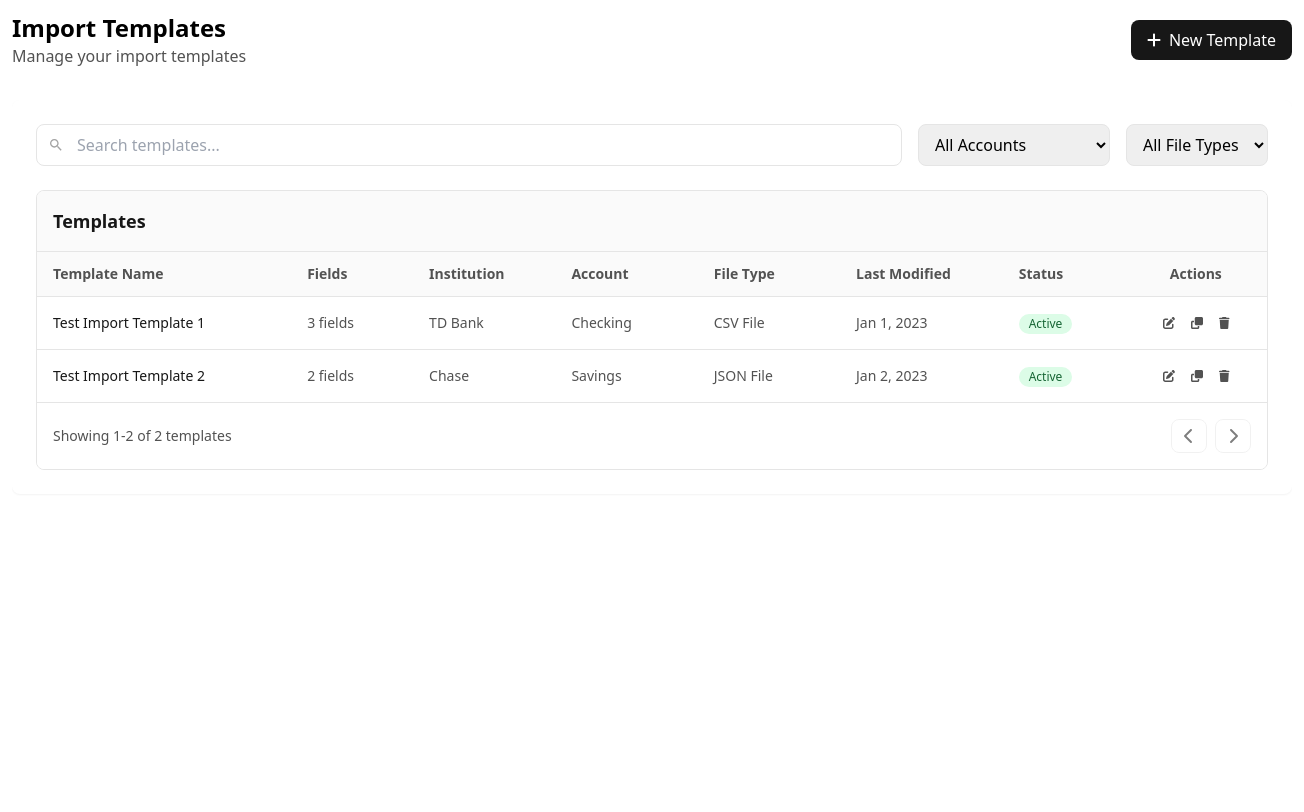
Test: ImportTemplatesPage › Field Combination Functionality › should navigate to field combination editor when "Add Field Combination" is clicked (edit mode)
Expected: the text "Test Import Template 1" is shown, [53, 313, 205, 332]
Click edit on existing template (which has fields)
Click the button named "edit" in the row of "Test Import Template 1".
click(1169, 323)  # box [1157, 309, 1181, 337]
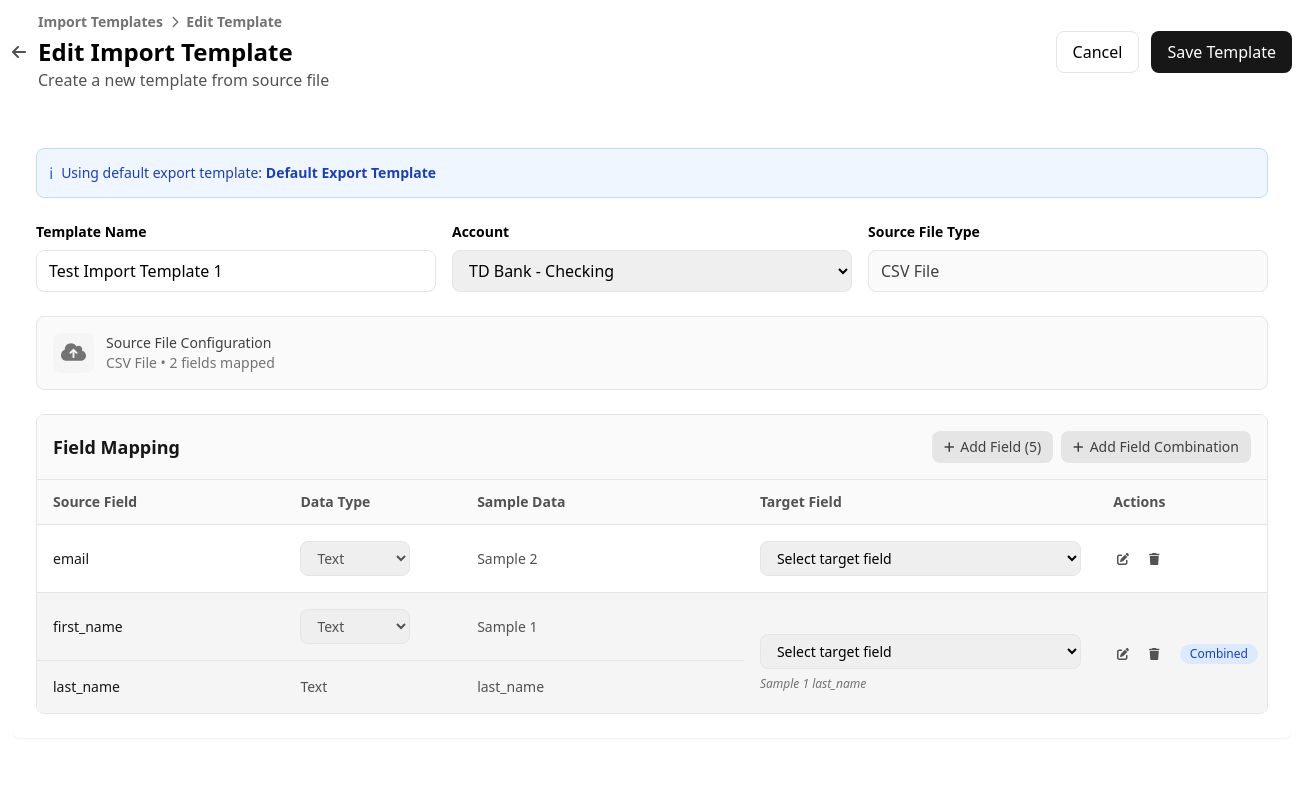
Now the heading "Edit Import Template" is shown, box [38, 36, 329, 68]
Now the button "Add Field Combination" is enabled
Click the button "Add Field Combination".
click(1156, 447)  # box [1061, 431, 1251, 463]
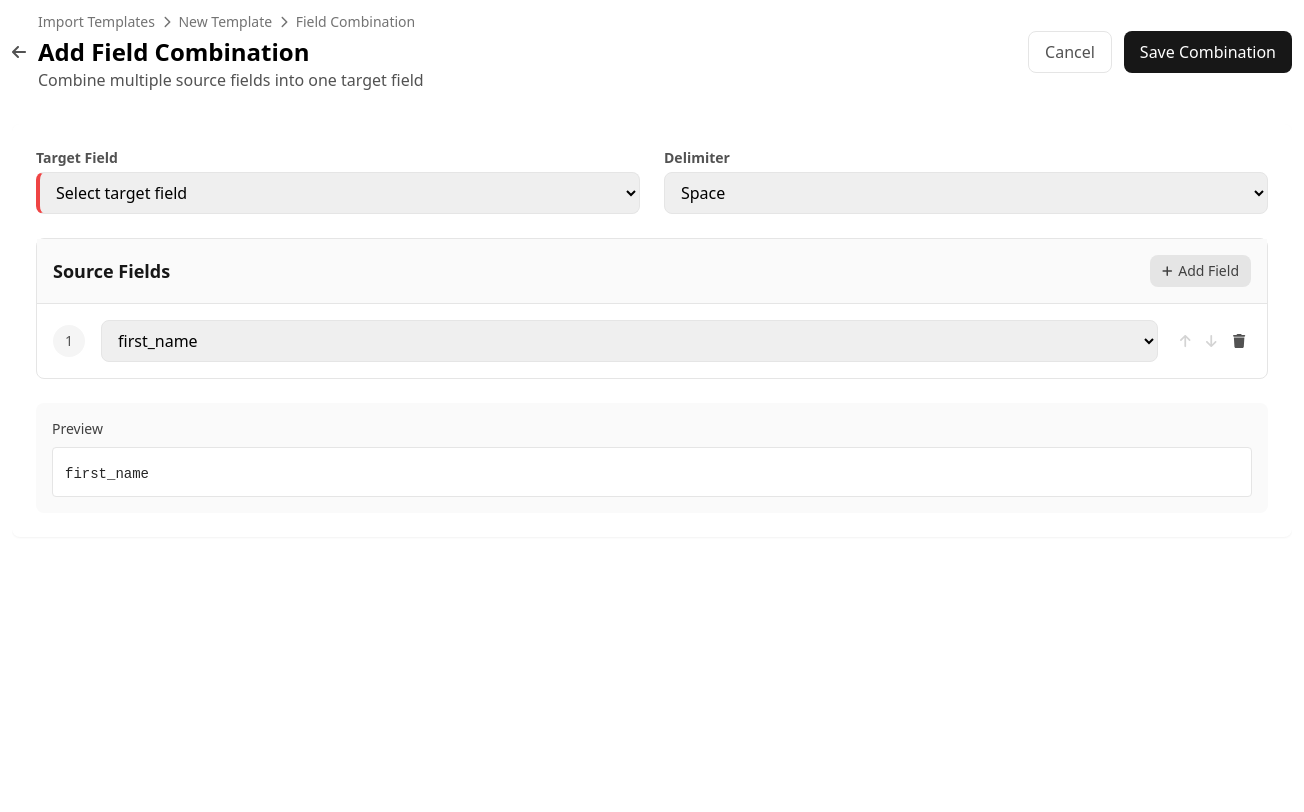
Now the heading "Add Field Combination" is shown, box [38, 35, 310, 68]
Now the text "Combine multiple source fields into one target field" is shown, box [38, 68, 424, 92]
